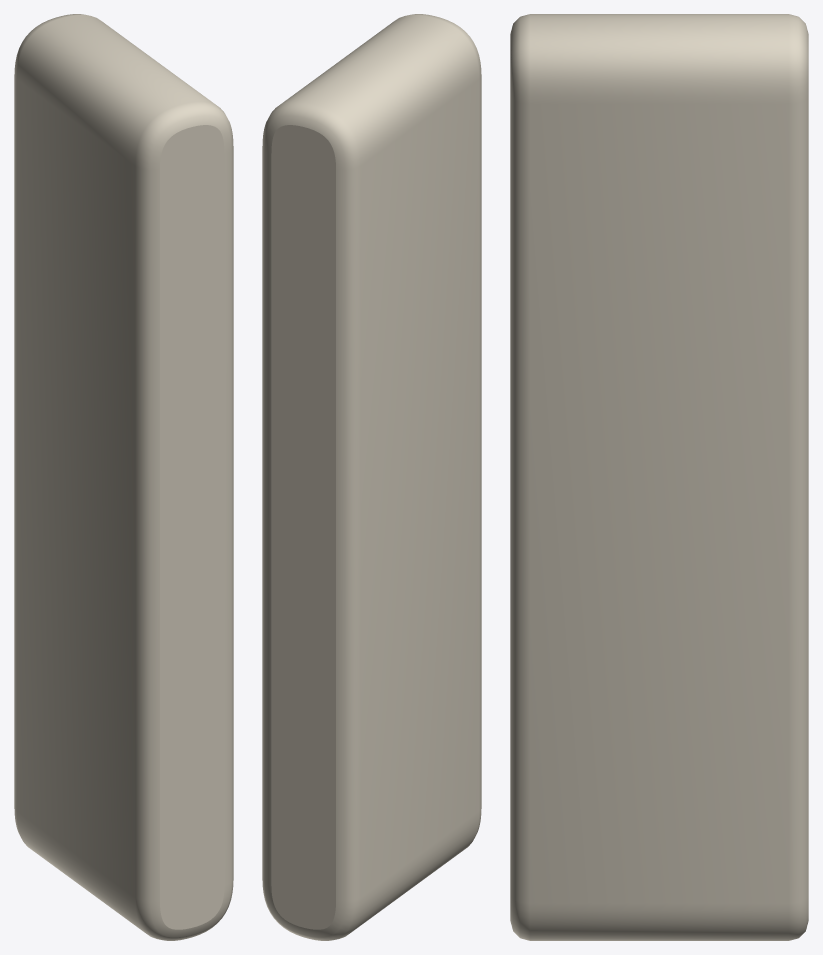
File: letter_i.glb
3 renders of one model, left to right at view 1: azimuth 30°, elevation 25°; view 2: azimuth 150°, elevation 25°; view 3: azimuth 270°, elevation 25°, orthographic. The views are drawn at different scales.
Parts seen in each view (by area): view 1: color_body; view 2: color_body; view 3: color_body.
Boxes of the visible parts, x1,y1,x2,y2 form: color_body: (14, 14, 233, 940); color_body: (262, 14, 481, 940); color_body: (510, 14, 808, 940).
Bounding box in the file's own units: 0.0983 × 0.816 × 0.242.
